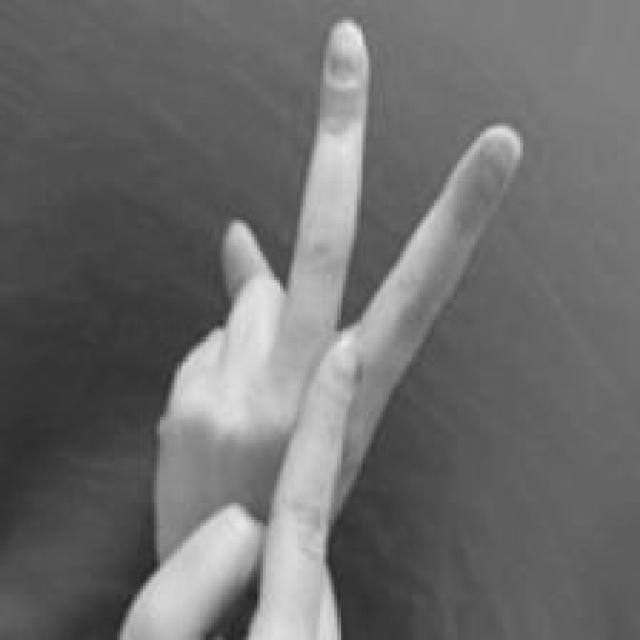Y: (118, 14, 525, 640)
